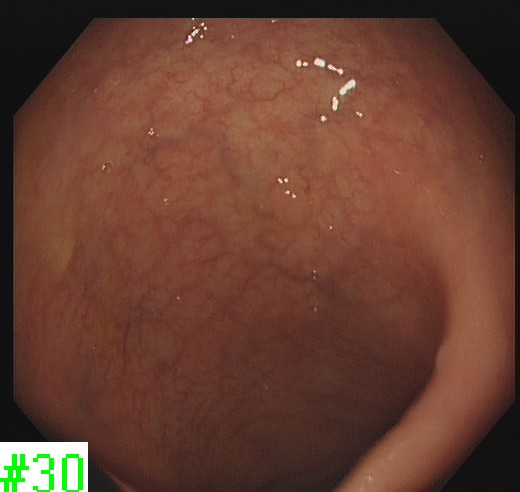adenoma: (266, 179, 312, 234)
